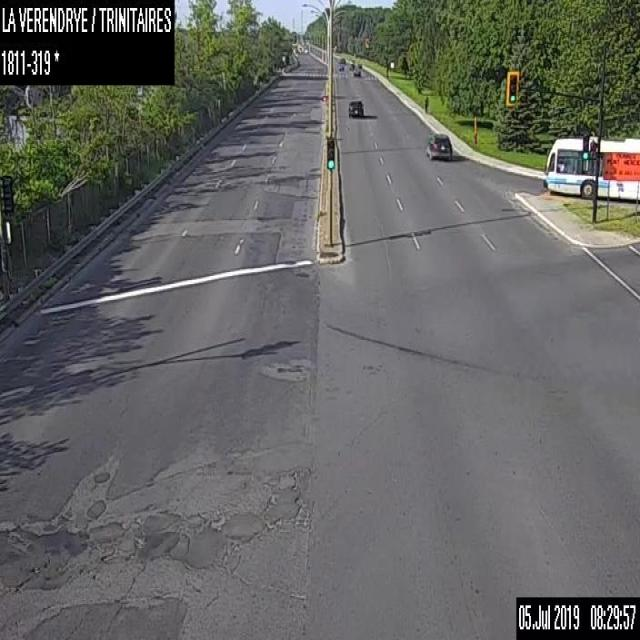bus: (541, 135, 639, 200)
vehicle: (424, 132, 452, 161), (347, 98, 363, 118), (352, 68, 360, 76), (338, 62, 344, 70), (348, 62, 354, 69), (339, 57, 344, 62), (357, 62, 361, 68)
